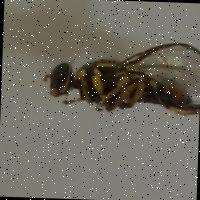Oriental-fruit-fly: (33, 27, 200, 135)
